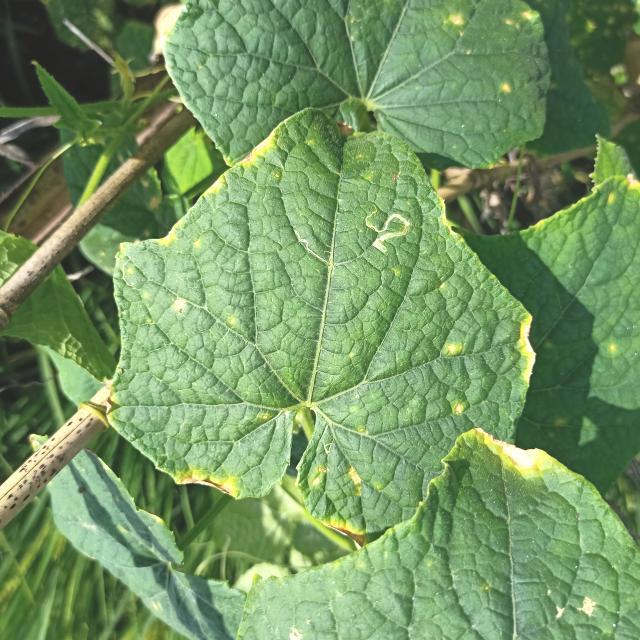disease_cucumber: (300, 459, 371, 545), (153, 220, 204, 255), (164, 296, 187, 313), (450, 398, 467, 418), (444, 339, 460, 357)
